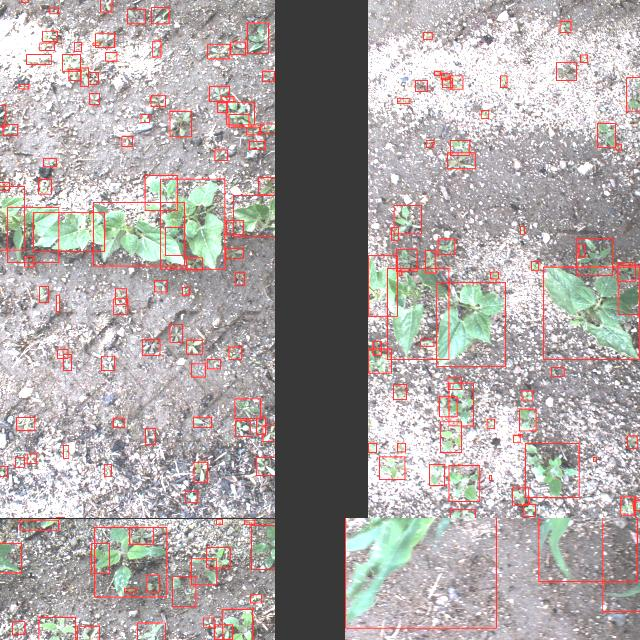crop: (344, 518, 495, 628), (543, 266, 639, 358), (538, 518, 637, 581), (92, 201, 184, 265), (160, 178, 224, 268), (436, 282, 504, 366), (386, 268, 448, 358), (602, 518, 640, 610), (7, 206, 58, 262), (32, 212, 104, 250), (232, 194, 275, 235), (368, 255, 397, 315), (0, 185, 23, 249)
weed: (94, 526, 166, 596), (525, 443, 579, 497), (576, 238, 612, 274), (144, 174, 176, 210), (448, 465, 479, 501), (618, 264, 640, 313), (448, 382, 472, 426), (251, 525, 275, 569), (221, 608, 252, 640), (37, 616, 74, 640), (393, 204, 421, 233), (172, 576, 196, 606), (190, 558, 216, 584), (226, 102, 254, 125), (440, 421, 460, 452), (248, 22, 268, 52), (0, 542, 20, 572), (378, 456, 404, 479), (169, 110, 191, 136), (91, 543, 109, 573), (164, 227, 183, 255), (368, 348, 390, 372), (234, 398, 260, 418), (137, 622, 165, 640), (206, 547, 230, 567), (626, 77, 640, 111), (447, 152, 475, 168), (396, 249, 416, 271), (597, 122, 615, 146), (129, 526, 153, 544), (18, 519, 58, 529), (518, 408, 536, 430), (556, 61, 576, 80), (438, 396, 456, 416), (256, 457, 275, 475), (77, 625, 99, 640), (617, 262, 635, 280), (428, 464, 444, 484), (207, 44, 229, 58), (258, 177, 275, 194), (127, 8, 145, 24), (151, 7, 169, 23), (61, 54, 79, 70), (193, 461, 207, 481), (209, 86, 229, 100), (94, 33, 114, 47), (449, 140, 469, 154), (424, 250, 436, 272), (234, 420, 250, 436), (512, 488, 528, 504), (438, 238, 454, 254), (141, 340, 159, 354), (225, 220, 243, 234), (620, 496, 634, 514), (214, 624, 232, 638), (146, 574, 160, 592), (228, 114, 248, 126), (26, 54, 50, 64), (16, 416, 34, 429), (449, 509, 474, 518), (186, 339, 202, 353), (100, 354, 114, 370), (113, 298, 127, 314), (230, 40, 246, 54), (170, 324, 182, 342), (38, 178, 51, 194), (392, 384, 406, 398), (263, 425, 275, 441), (114, 288, 126, 304), (186, 257, 202, 269), (225, 248, 243, 258), (193, 416, 211, 426), (228, 346, 242, 358), (191, 364, 205, 376), (447, 377, 461, 389), (12, 620, 24, 634), (150, 95, 166, 105), (38, 285, 48, 301), (145, 427, 155, 443), (256, 417, 266, 433), (450, 75, 462, 88), (260, 123, 275, 133), (185, 490, 197, 502), (154, 279, 166, 291), (262, 70, 274, 82), (80, 68, 88, 86), (68, 68, 80, 80), (523, 503, 535, 515), (206, 358, 220, 368), (2, 124, 16, 134), (42, 30, 56, 40), (627, 434, 637, 448), (550, 366, 564, 376), (99, 0, 111, 11), (215, 149, 228, 159), (249, 140, 265, 148), (62, 354, 70, 370), (152, 40, 160, 56), (38, 42, 54, 50), (112, 417, 124, 427), (120, 135, 132, 145), (89, 92, 99, 104), (87, 71, 97, 83), (414, 80, 426, 90), (560, 20, 570, 32), (42, 158, 56, 166), (419, 338, 433, 346), (372, 341, 380, 355), (0, 104, 5, 126), (104, 51, 116, 60), (234, 272, 243, 284), (247, 126, 260, 134), (390, 227, 398, 240), (26, 453, 36, 463), (23, 256, 33, 266), (14, 457, 24, 467), (57, 348, 67, 358), (217, 102, 227, 112), (522, 390, 532, 400), (442, 77, 452, 87), (103, 464, 111, 476), (202, 618, 214, 626), (250, 594, 262, 602), (62, 444, 68, 458), (578, 243, 584, 257), (499, 75, 506, 87), (140, 114, 150, 122), (632, 500, 640, 510), (397, 442, 405, 452), (367, 442, 375, 452), (486, 418, 494, 428), (440, 72, 450, 80), (73, 41, 81, 50), (397, 97, 409, 103), (0, 182, 8, 190), (512, 434, 520, 442), (580, 54, 588, 62), (480, 110, 488, 118), (48, 7, 58, 13), (0, 465, 6, 475), (532, 260, 538, 270), (422, 32, 432, 38), (56, 294, 59, 312), (182, 287, 188, 295), (221, 96, 233, 100), (490, 272, 498, 278), (124, 588, 136, 592), (215, 518, 222, 524), (18, 84, 28, 88), (244, 519, 254, 523), (615, 143, 621, 149), (426, 140, 432, 146), (434, 70, 440, 76), (520, 225, 524, 233), (488, 474, 492, 480), (92, 42, 98, 44), (594, 457, 596, 461), (518, 434, 522, 436), (398, 270, 400, 274)
